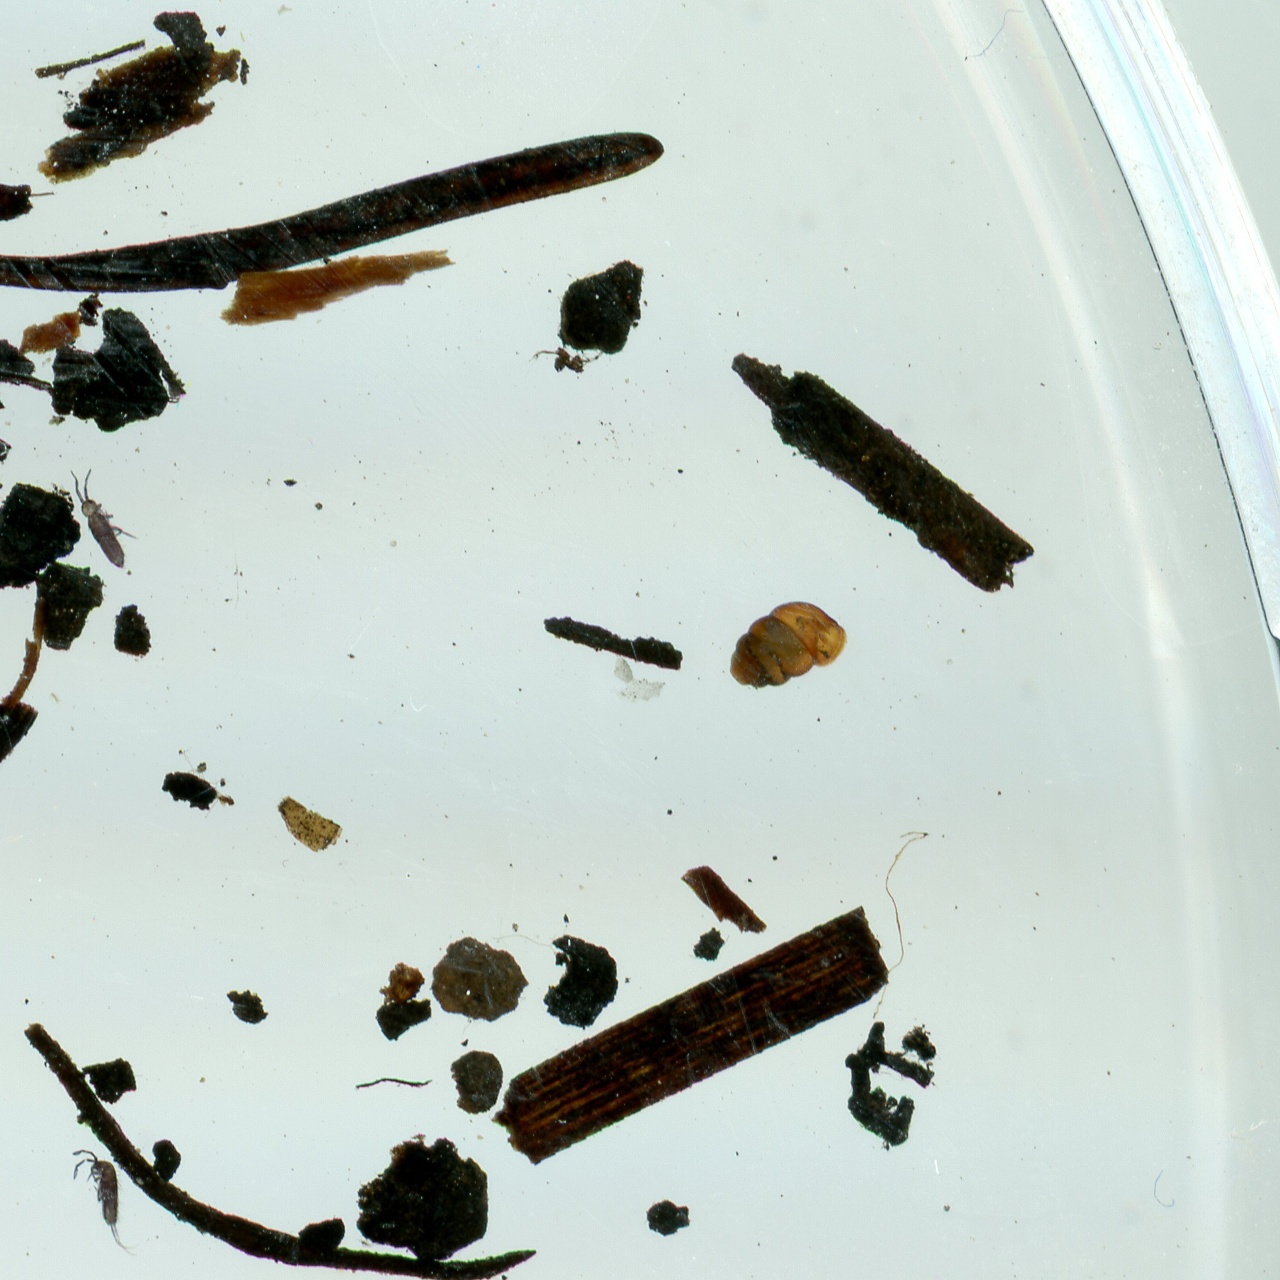arthropod: (53, 447, 158, 590), (724, 597, 853, 696), (69, 1135, 144, 1271)
